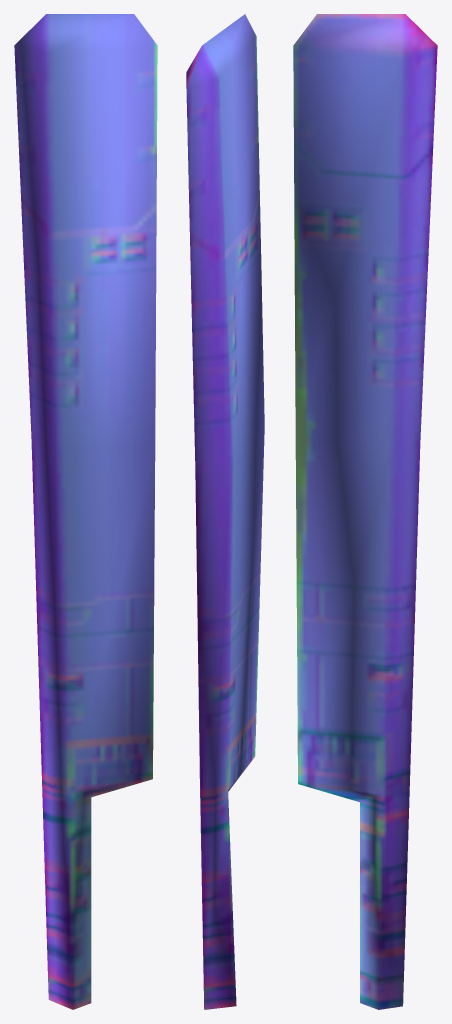
Rendered from ship_debris_05_part_17.glb.
The picture shows the model from 3 angles, left to right: view 1: azimuth 90°, elevation 25°; view 2: azimuth 150°, elevation 25°; view 3: azimuth 270°, elevation 25°; orthographic projection. The views are drawn at different scales.
Visible parts, largest first — view 1: ship_debris_05_part_17; view 2: ship_debris_05_part_17; view 3: ship_debris_05_part_17.
Part boxes in pixels (x1=…): ship_debris_05_part_17: x1=14, y1=14, x2=157, y2=1009; ship_debris_05_part_17: x1=186, y1=14, x2=264, y2=1009; ship_debris_05_part_17: x1=293, y1=14, x2=437, y2=1009.
Bounding box in the file's own units: 0.2174 × 5.01 × 0.6604.
1 material, 1 textured.
